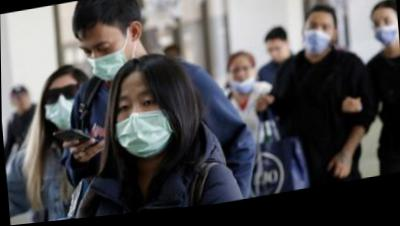NONE: (267, 46, 290, 69)
OK: (110, 81, 177, 166), (80, 31, 132, 89), (43, 79, 87, 136), (305, 23, 336, 63), (372, 21, 400, 58)
WRONG: (230, 67, 257, 98)
